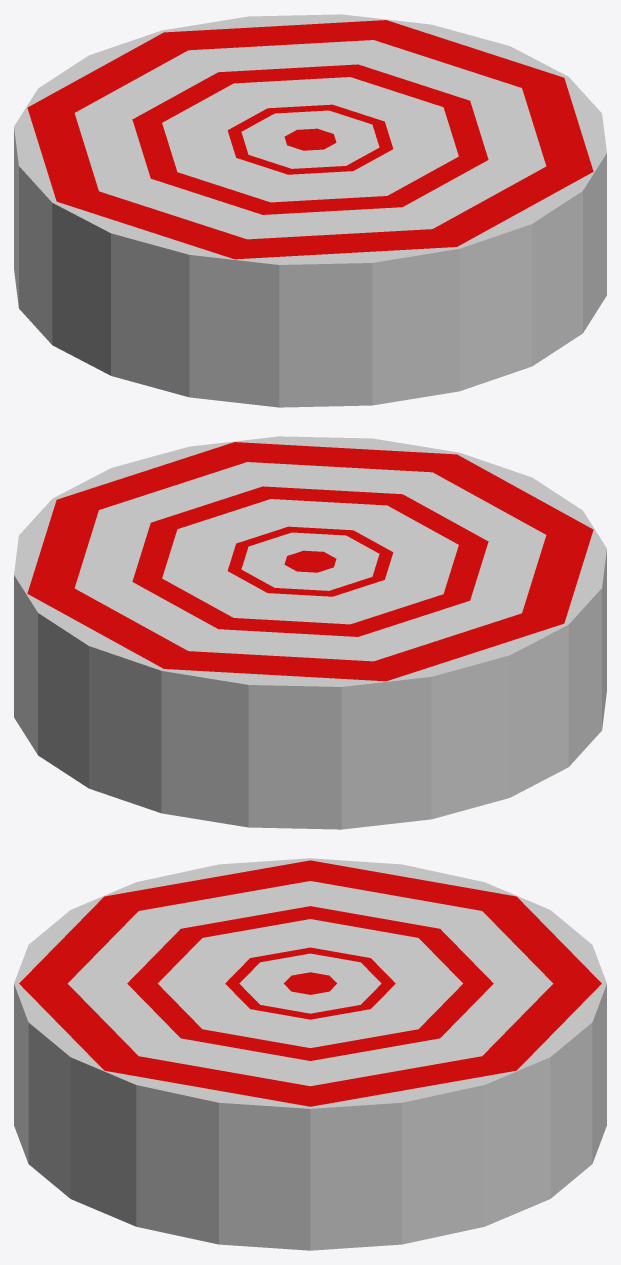
Rendered from alvo.fbx.
3 views of the same model, one above another, from view 1: azimuth 30°, elevation 25°; view 2: azimuth 150°, elevation 25°; view 3: azimuth 270°, elevation 25° (orthographic).
Parts seen in each view (by area): view 1: alvo; view 2: alvo; view 3: alvo.
Boxes of the visible parts, x1,y1,x2,y2 form: alvo: (14,14,606,407); alvo: (14,436,606,829); alvo: (14,858,606,1250).
Bounding box in the file's own units: 21.95 × 5.79 × 21.95.
